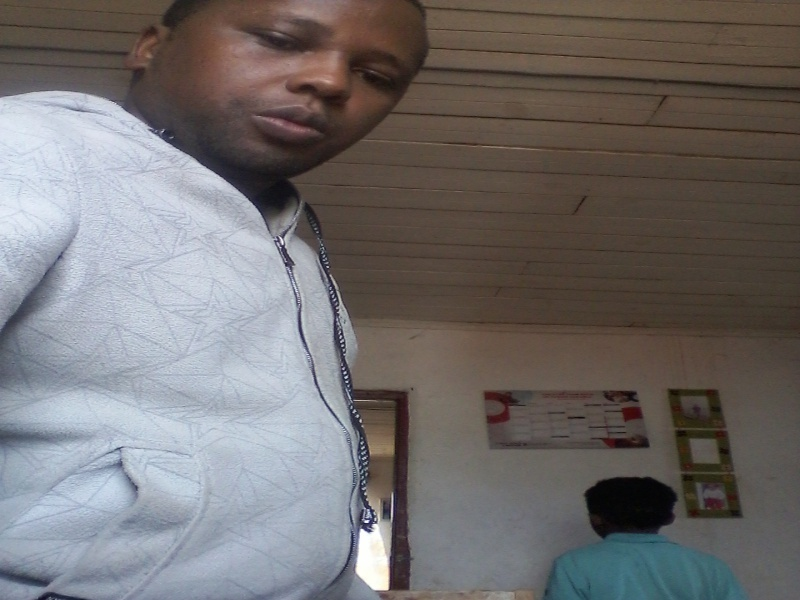TsisyArotava: (116, 4, 420, 204)
